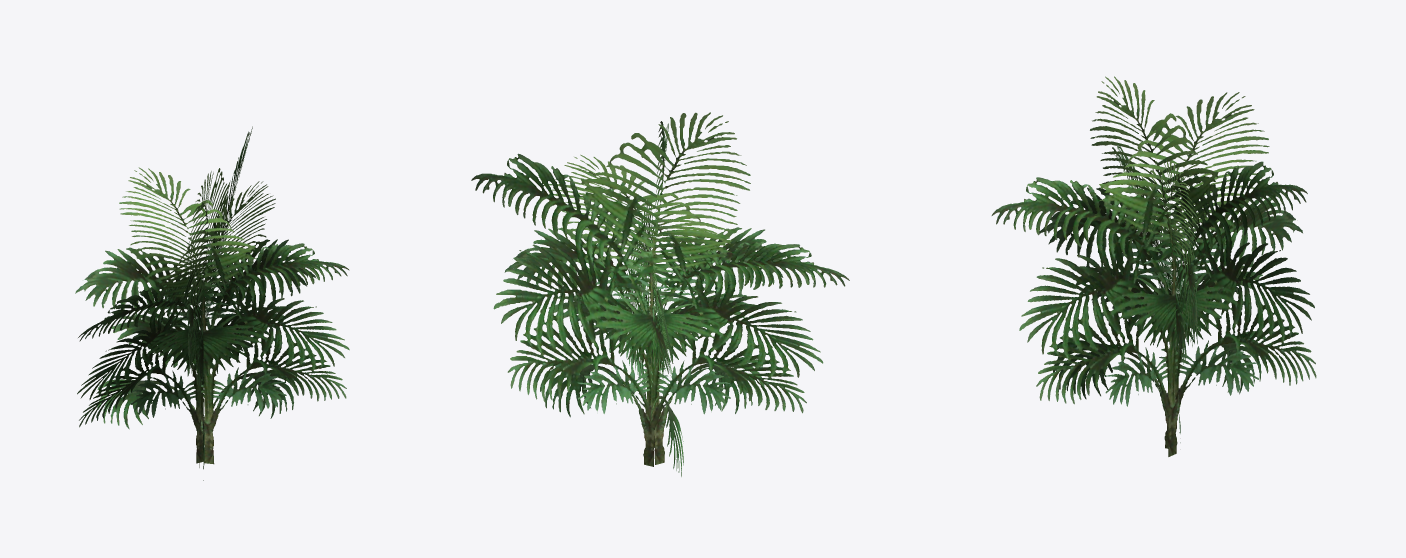
Rendered from obj__palms1.obj.
3 views of the same model, side by side, from view 1: azimuth 30°, elevation 25°; view 2: azimuth 150°, elevation 25°; view 3: azimuth 270°, elevation 25° (orthographic). The views are drawn at different scales.
Visible parts, largest first — view 1: palms1.tga; view 2: palms1.tga; view 3: palms1.tga.
Boxes of the visible parts, box(x1,y1,x2,y2) form: palms1.tga: box(75, 126, 349, 480); palms1.tga: box(471, 112, 849, 476); palms1.tga: box(991, 76, 1316, 456).
Bounding box in the file's own units: 95.02 × 88.34 × 83.77.
1 material, 1 textured.
